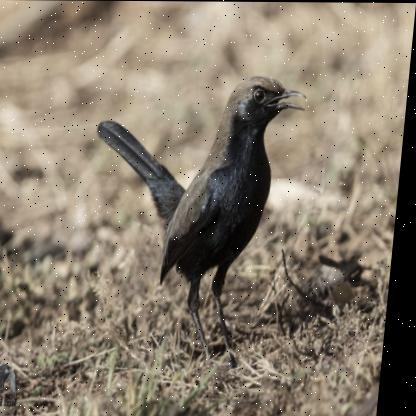Burung: (82, 73, 310, 360)
